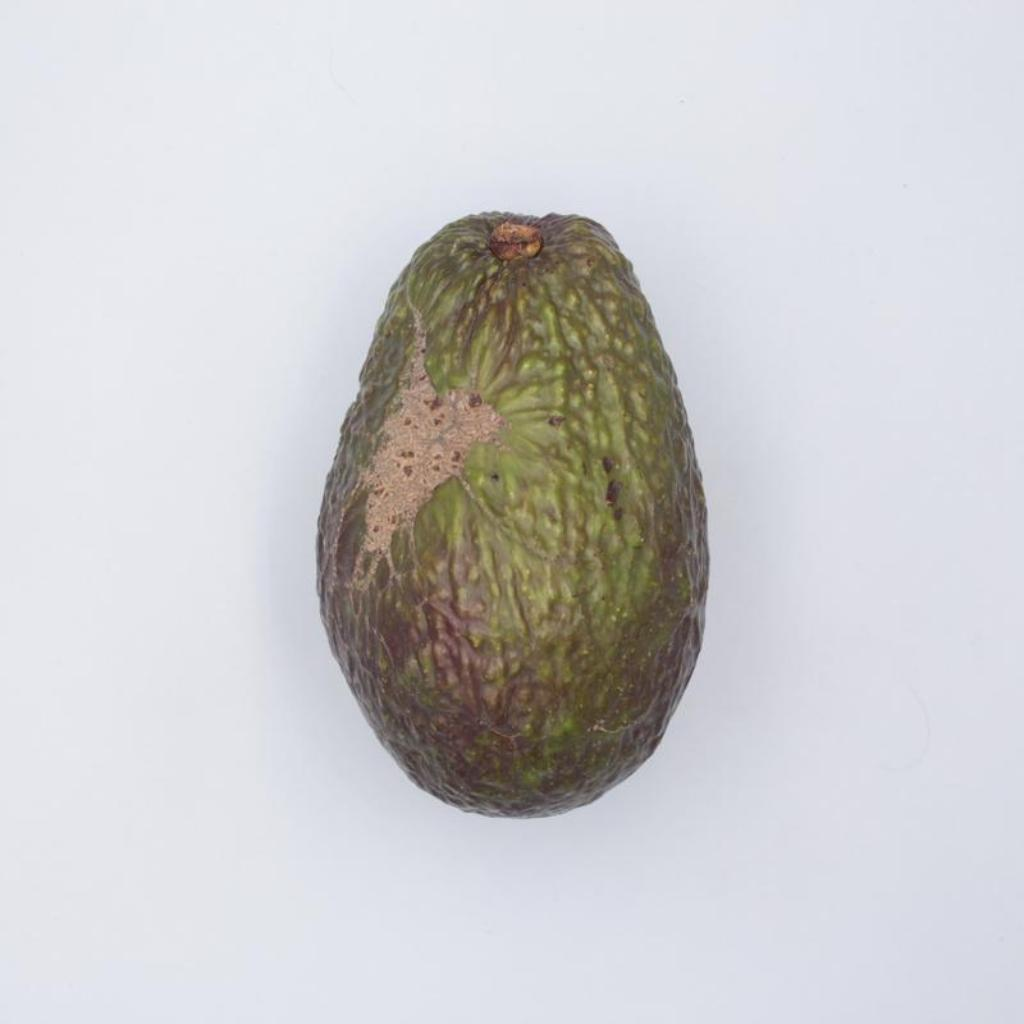rona: (317, 214, 708, 815)
